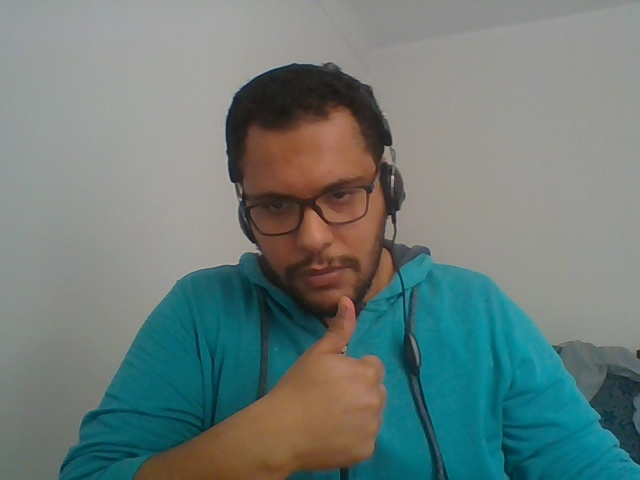ok: (270, 289, 395, 480)
